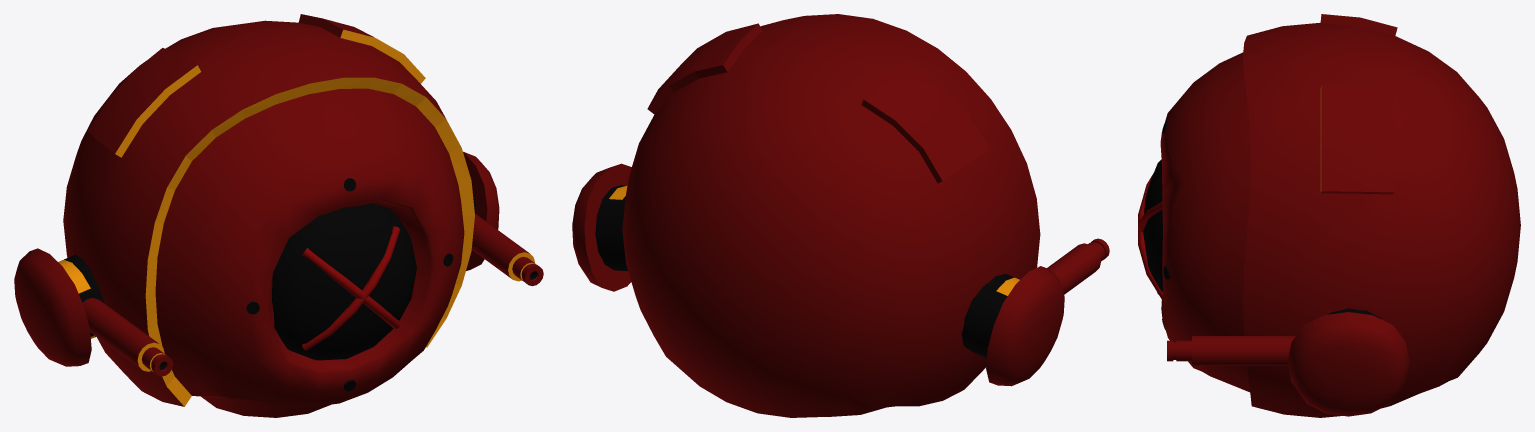
The model's file is enemy_patrol.fbx.
The picture shows the model from 3 angles, left to right: view 1: azimuth 30°, elevation 25°; view 2: azimuth 150°, elevation 25°; view 3: azimuth 270°, elevation 25°; orthographic projection. The views are drawn at different scales.
Parts seen in each view (by area): view 1: Box006, Box007, Cylinder014, Cylinder015, Cylinder006, Cylinder011, Cylinder012; view 2: Box006, Cylinder014, Cylinder015; view 3: Box006, Cylinder015, Box007, Cylinder012.
Part boxes in pixels (bbox=[...]): Box006: bbox=[63, 14, 474, 407]; Box007: bbox=[272, 203, 416, 360]; Cylinder014: bbox=[14, 248, 173, 376]; Cylinder015: bbox=[463, 151, 543, 286]; Cylinder006: bbox=[201, 396, 330, 417]; Cylinder011: bbox=[302, 226, 400, 350]; Cylinder012: bbox=[302, 248, 400, 328]; Box006: bbox=[622, 14, 1040, 417]; Cylinder014: bbox=[961, 238, 1109, 386]; Cylinder015: bbox=[572, 163, 631, 291]; Box006: bbox=[1160, 14, 1520, 417]; Cylinder015: bbox=[1167, 308, 1409, 416]; Box007: bbox=[1143, 159, 1162, 294]; Cylinder012: bbox=[1138, 173, 1162, 300].
Size of the model in its own units: 3.29 by 2.45 by 2.39.
